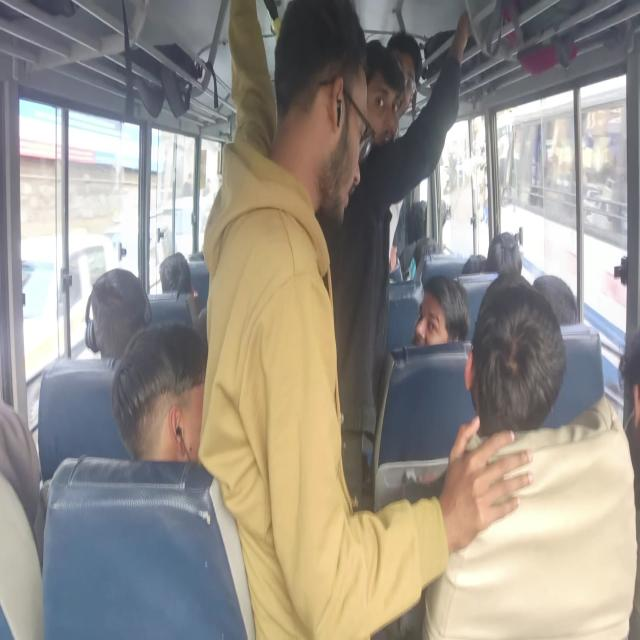person: (78, 302, 290, 482), (266, 15, 376, 263), (459, 310, 566, 451), (90, 267, 153, 345), (361, 64, 416, 144), (415, 285, 451, 362), (392, 34, 426, 109), (410, 208, 446, 269), (162, 248, 192, 299), (490, 244, 542, 273), (453, 236, 488, 279)
